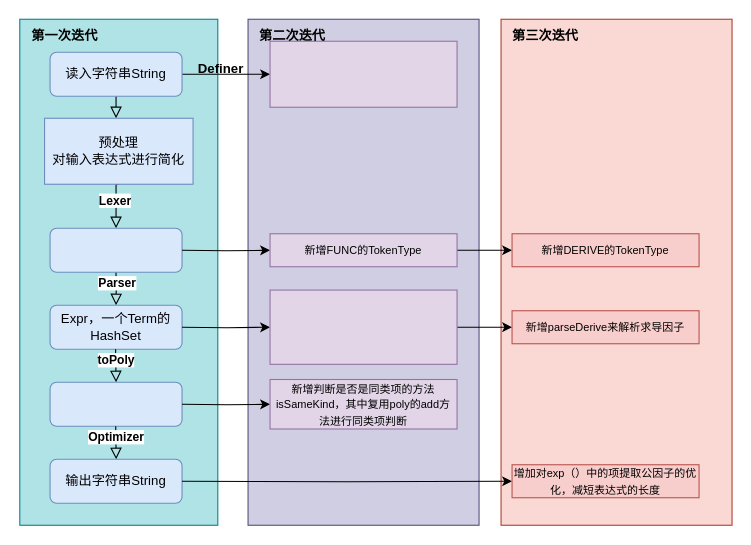
Some shapes in this 751 by 545 pixel diagram are drawn without their labels. Each missing label, with the box of its shape:
ArrayList<Token> tokens: (49, 227, 182, 272)
Poly，一个Mono的HashSet: (49, 381, 182, 426)
新增parseFun来解析函数因子 同时将原有的解析不同因子的方法提取出来，提取函数，显得方法功能更加专一，格式更加合理: (269, 289, 457, 364)
解析函数 复用预处理方法对输入函数进行预处理，保证前后表达式的一致。 得到func2ExprMap与funcMap: (269, 40, 457, 107)
